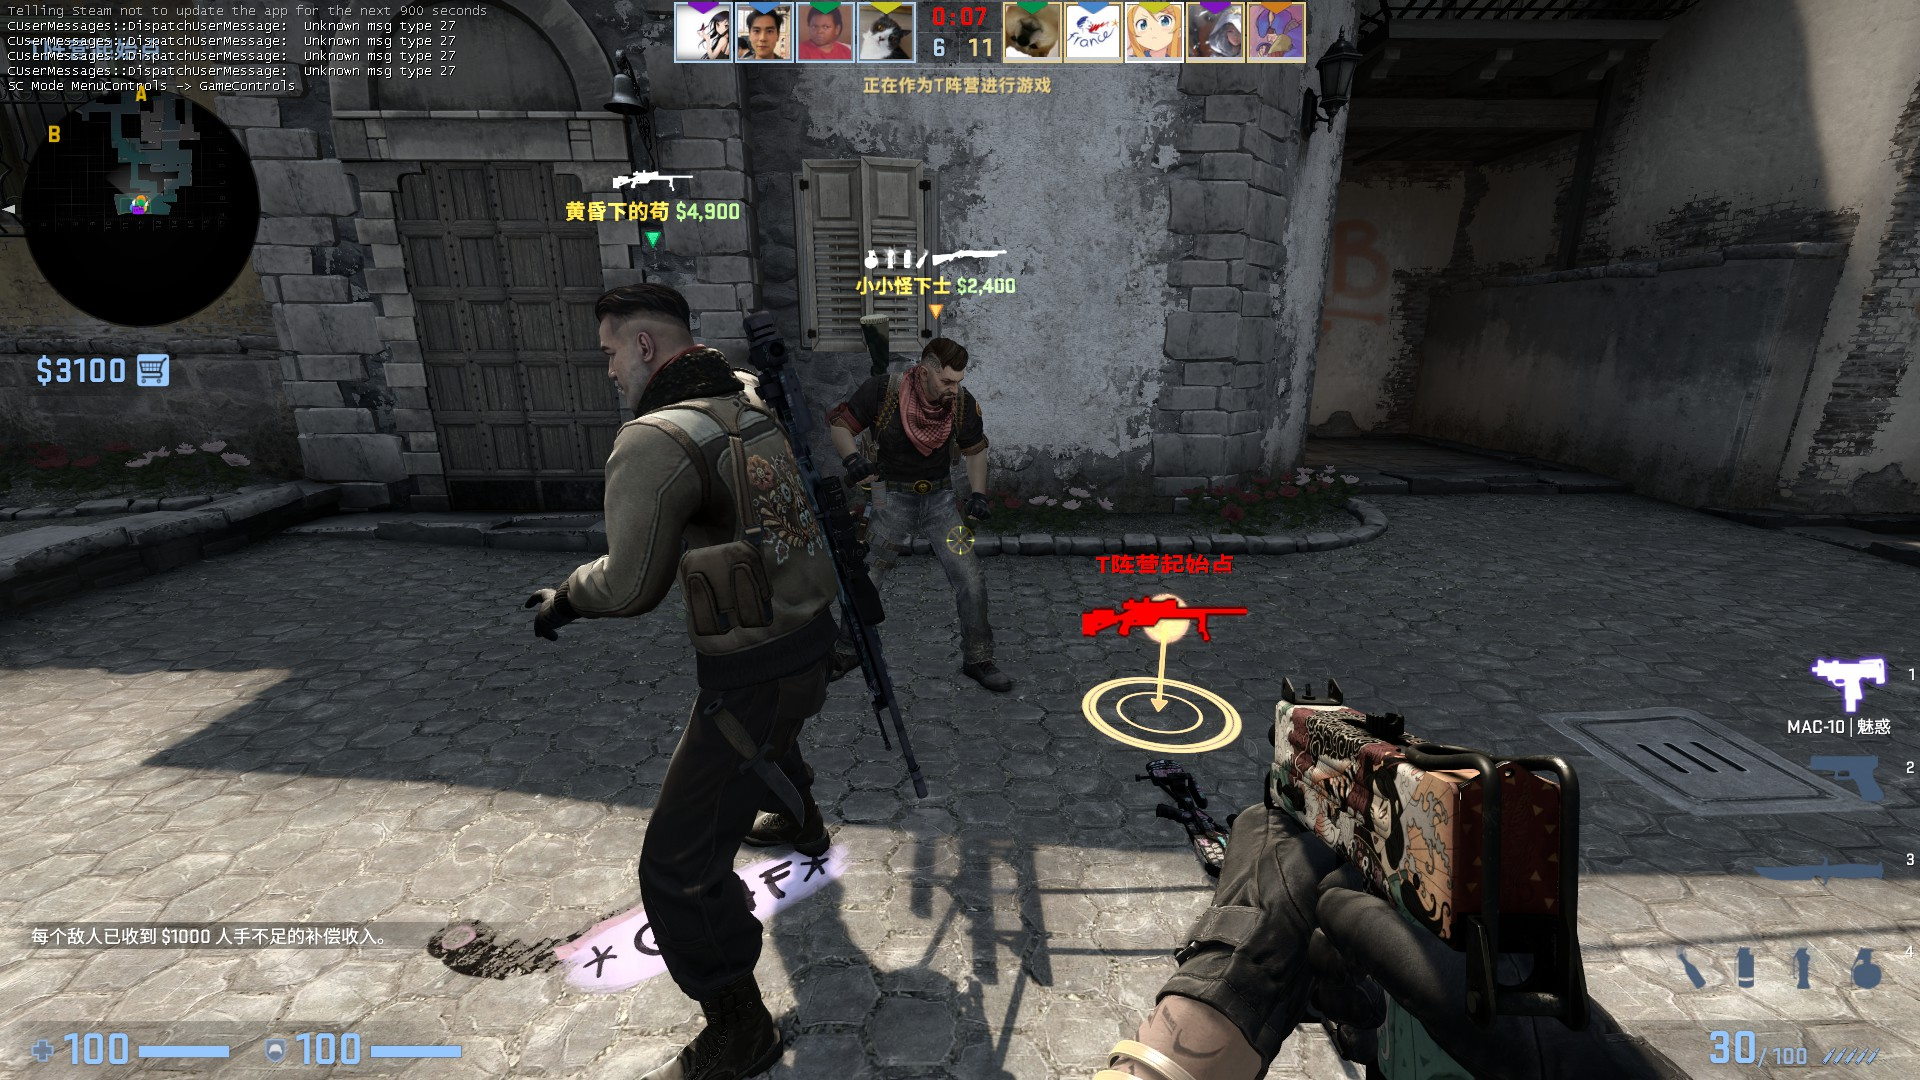head: (586, 282, 696, 410), (912, 333, 970, 408)
